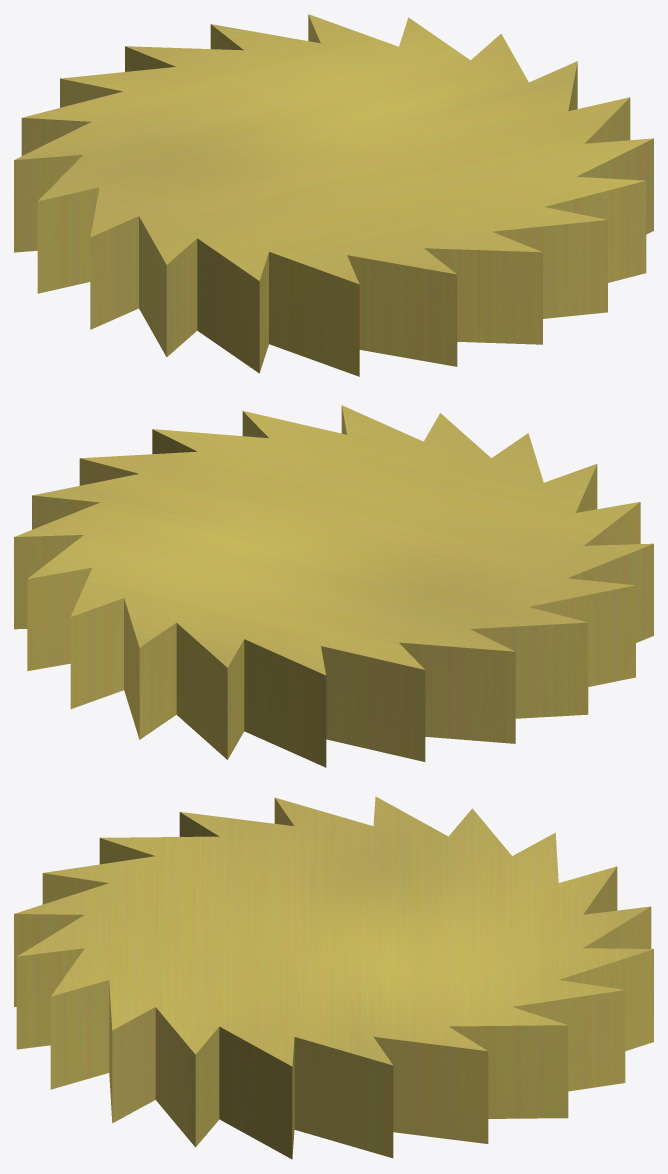
File: ClockAngle020.fbx
The picture shows the model from 3 angles, top to bottom: view 1: azimuth 30°, elevation 25°; view 2: azimuth 150°, elevation 25°; view 3: azimuth 270°, elevation 25°; orthographic projection.
Parts seen in each view (by area): view 1: ClockAngle020; view 2: ClockAngle020; view 3: ClockAngle020.
Boxes of the visible parts, left/top/right/bottom form: ClockAngle020: left=14, top=14, right=653, bottom=376; ClockAngle020: left=14, top=405, right=653, bottom=767; ClockAngle020: left=14, top=796, right=653, bottom=1159.
Size of the model in its own units: 123 by 19.69 by 123.
